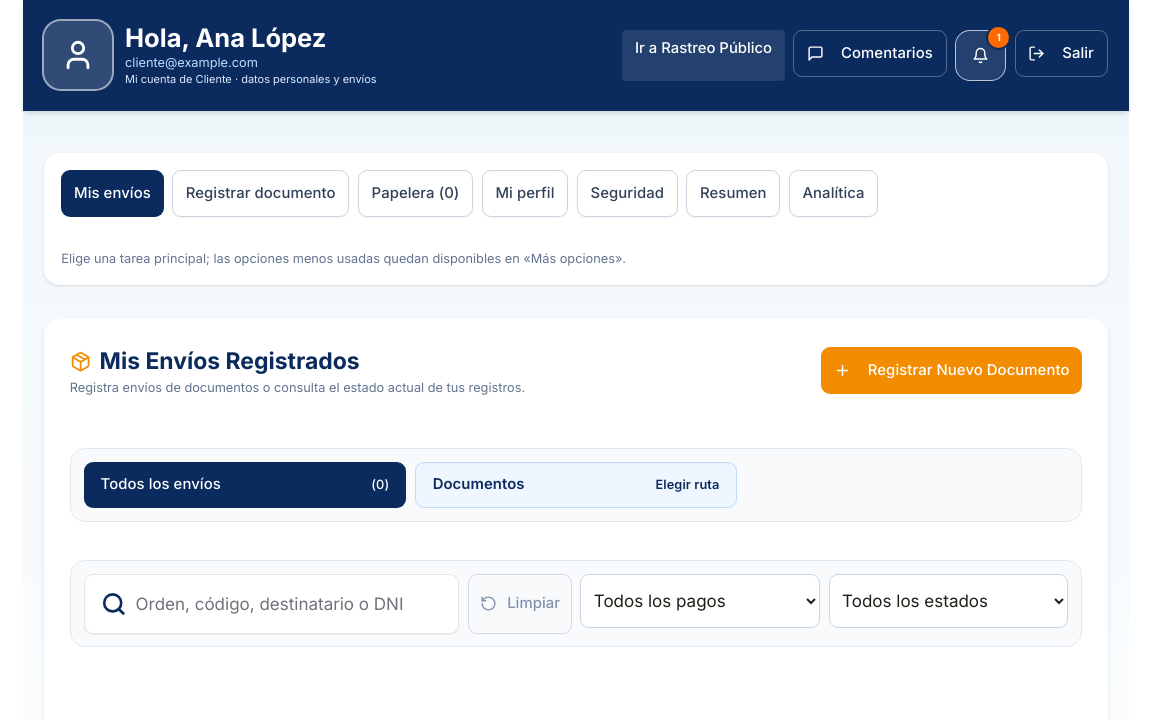
Scenario: AccountPage client labels › muestra la campana del Cliente y el aviso de actividad de su cuenta
Click the button named "Notificaciones, 1 sin leer": (980, 55) x1=955 y1=30 x2=1006 y2=81
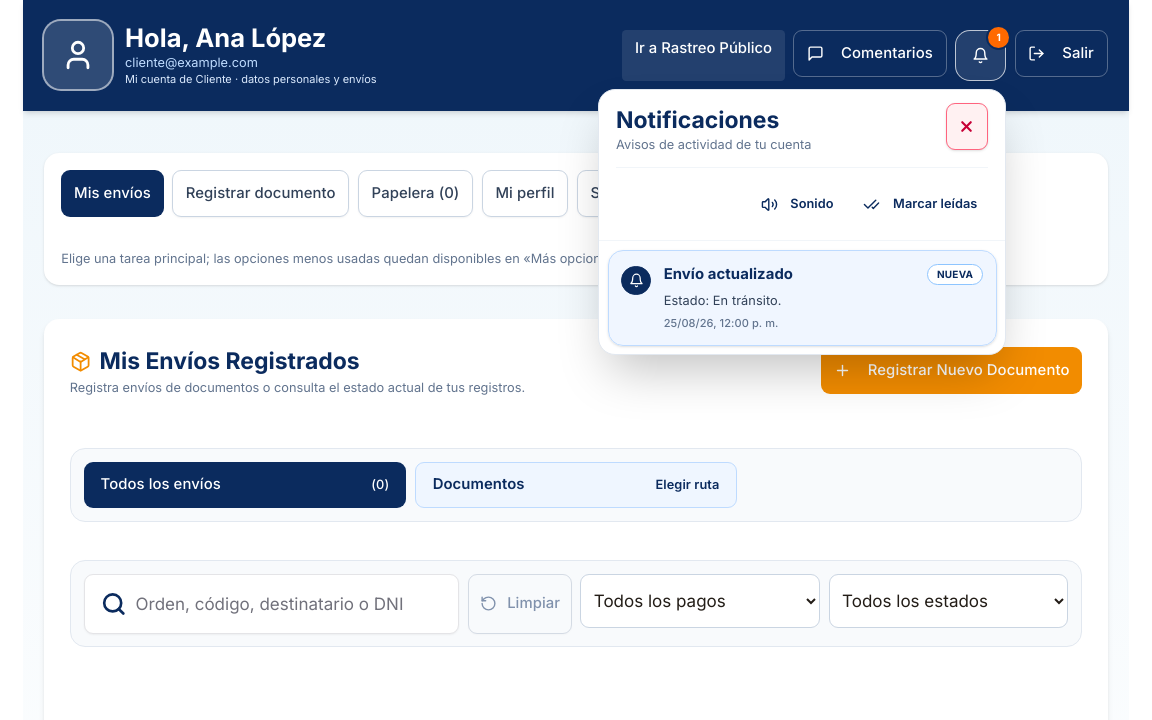
Now the dialog "Notificaciones" is shown, box x1=598 y1=89 x2=1006 y2=356
Now the text "Envío actualizado" is shown, box x1=664 y1=264 x2=793 y2=285
Now the text "Estado: En tránsito." is shown, box x1=664 y1=293 x2=782 y2=308
